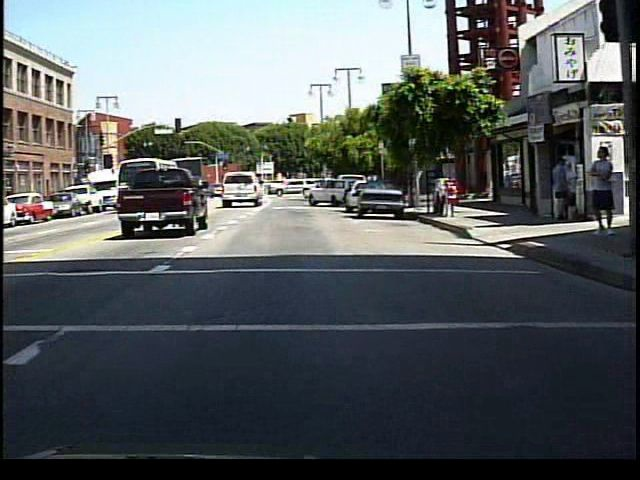person: (584, 143, 613, 239), (550, 154, 572, 224)
